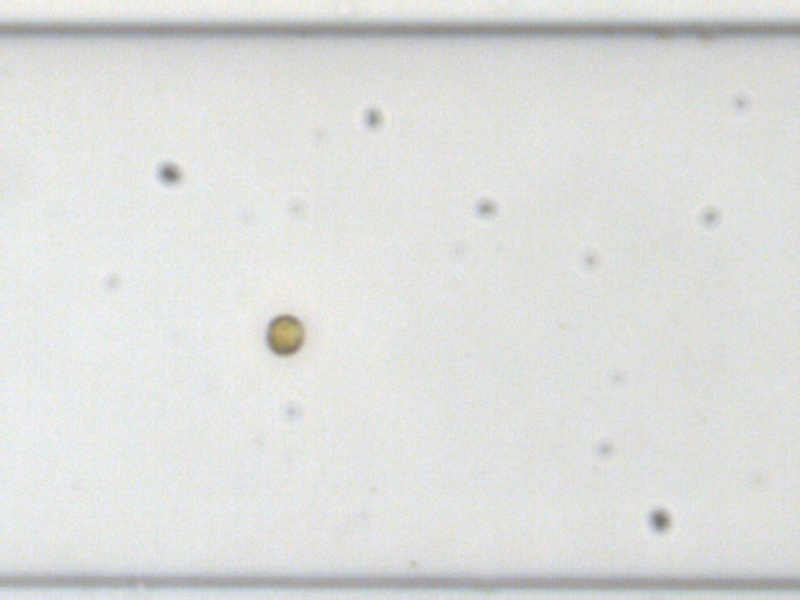Effrenium: (264, 314, 305, 356)
